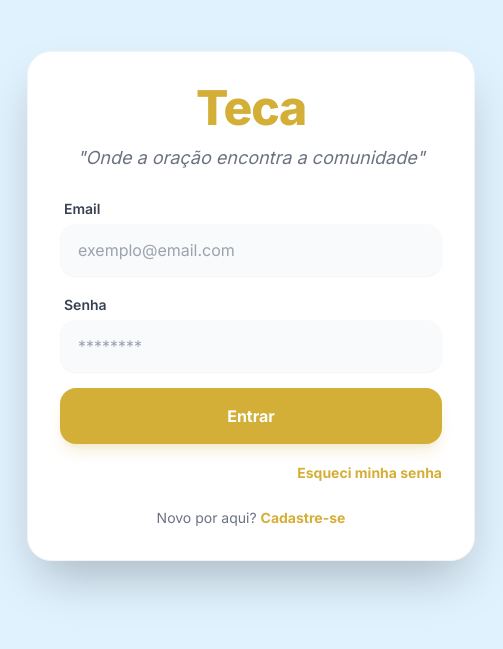
Test: AuthScreen — erro de login visível › mostra "E-mail ou senha incorretos." quando a senha está errada
In the field with placeholder "exemplo@email.com": (251, 250) [60,224,442,276], type "joana@teca.app.br"
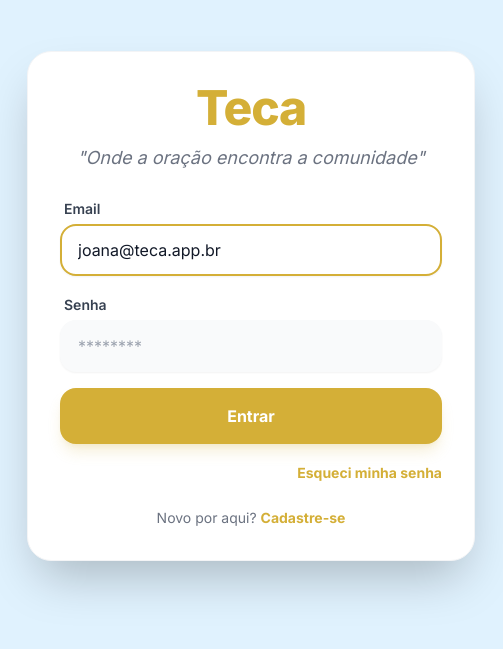
In the password field with placeholder "********": (251, 346) [60,320,442,372], type "senha-errada"
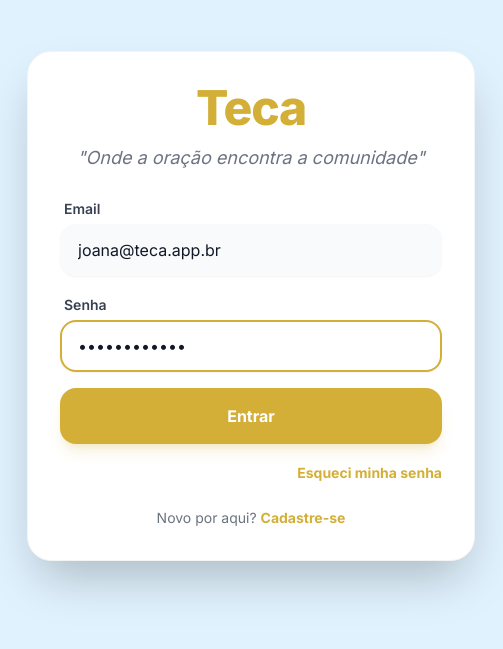
Click the button "Entrar": (251, 416) [60,388,442,444]
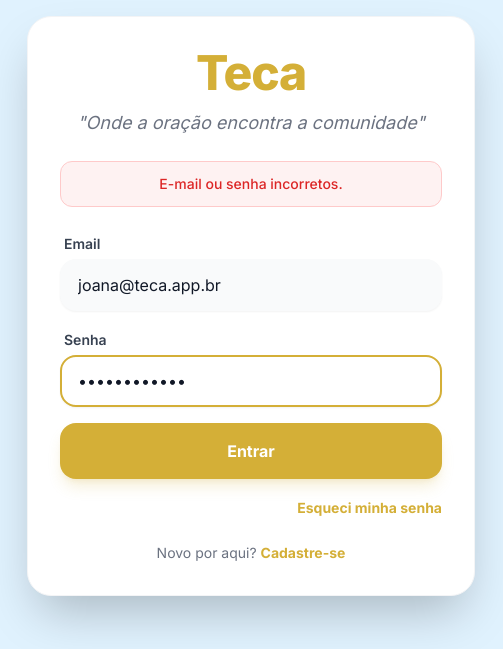
Check: the text "E-mail ou senha incorretos." is shown, box [60,161,442,207]
